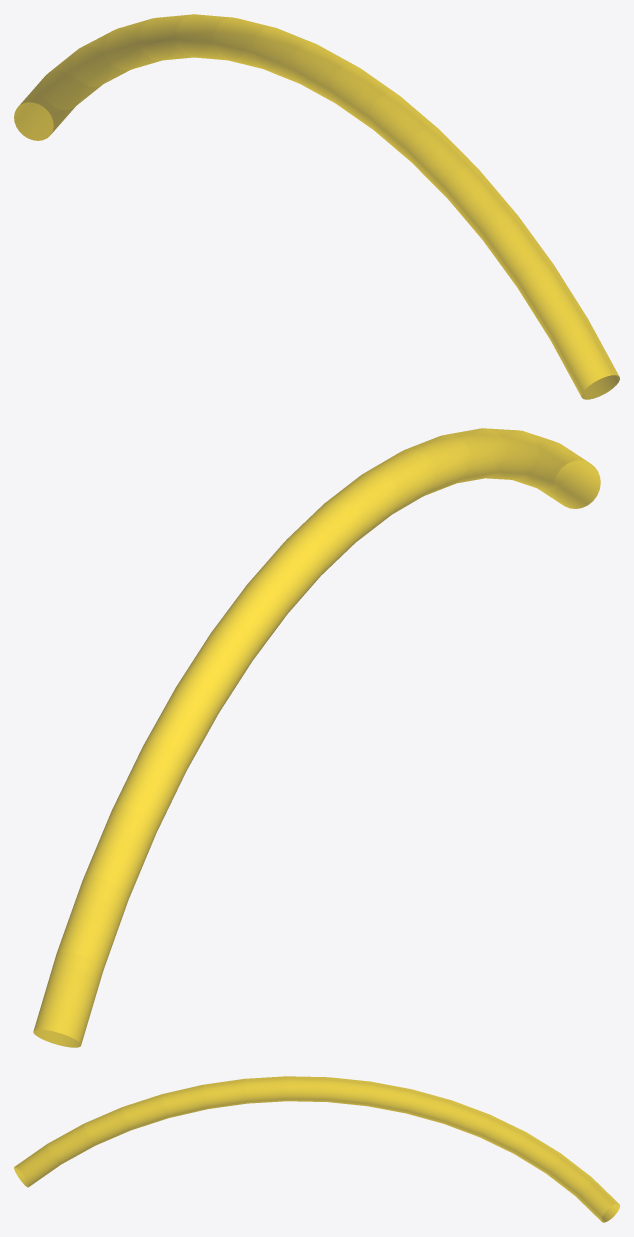
Rendered from Event_84804159_track_73.fbx.
3 renders of one model, top to bottom at view 1: azimuth 30°, elevation 25°; view 2: azimuth 150°, elevation 25°; view 3: azimuth 270°, elevation 25°, orthographic. The views are drawn at different scales.
Parts seen in each view (by area): view 1: Model; view 2: Model; view 3: Model.
Boxes of the visible parts, x1,y1,x2,y2 form: Model: [14, 14, 619, 399]; Model: [33, 428, 600, 1047]; Model: [14, 1076, 619, 1222].
Bounding box in the file's own units: 0.1035 × 0.2696 × 0.9659.
